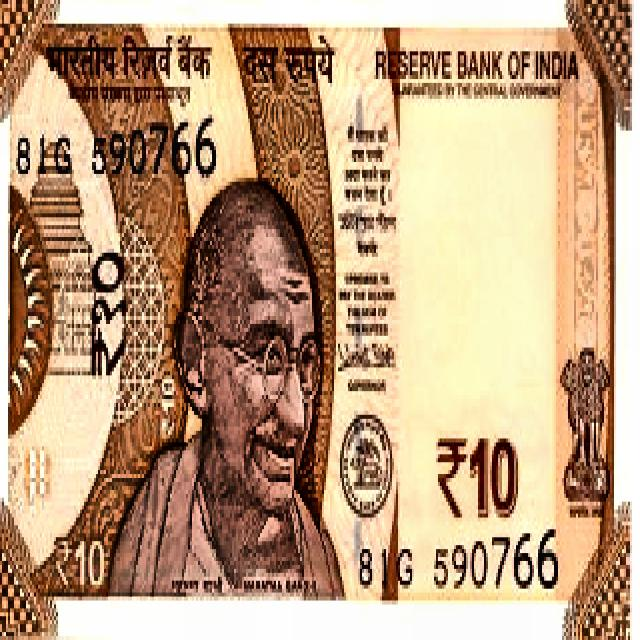-10-: (8, 5, 638, 616)
